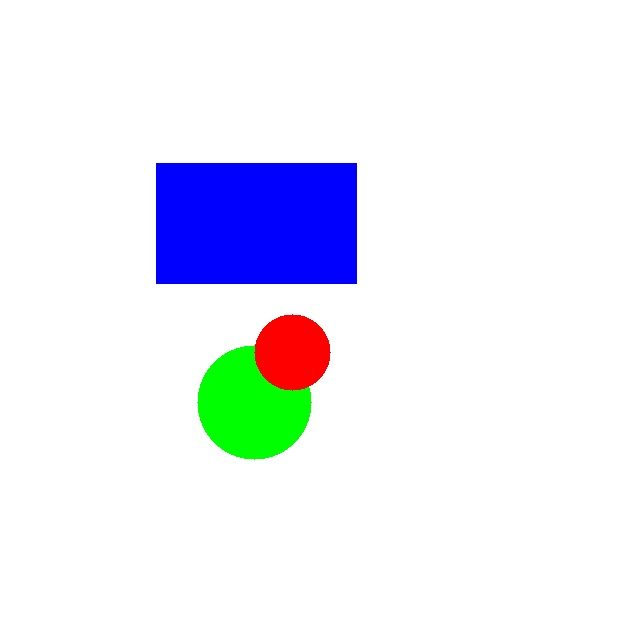cartao: (156, 163, 356, 283)
rosca_externa: (197, 345, 311, 459)
rosca_interna: (254, 314, 330, 390)
